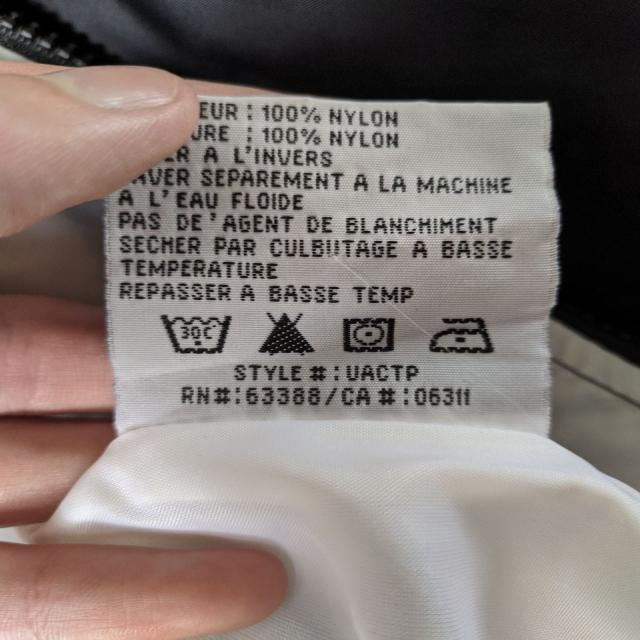30C: (163, 308, 238, 358)
DN_bleach: (256, 312, 317, 357)
iron_low: (429, 312, 495, 356)
tumble_dry_low: (340, 315, 402, 354)
